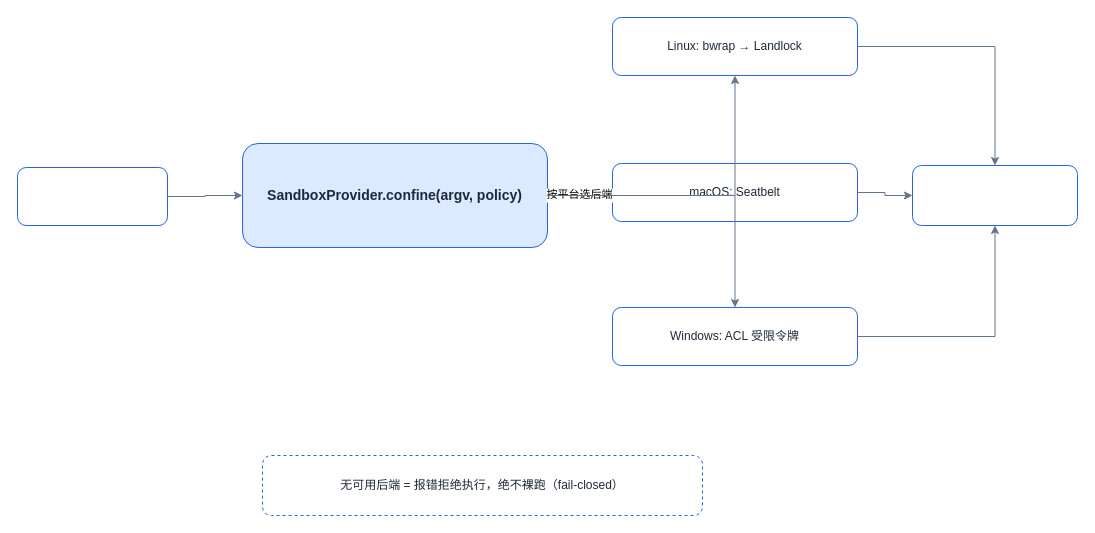
Image size: 1095x533. Some labels were removed from this diagram. The shapes that lost their labels are listed below. From the top down, each one's box as (x1, y1, x2, y2) in pixels, then its label:
(16, 166, 168, 226): 原始 argv
(912, 164, 1078, 226): 包装后 argv spawn
